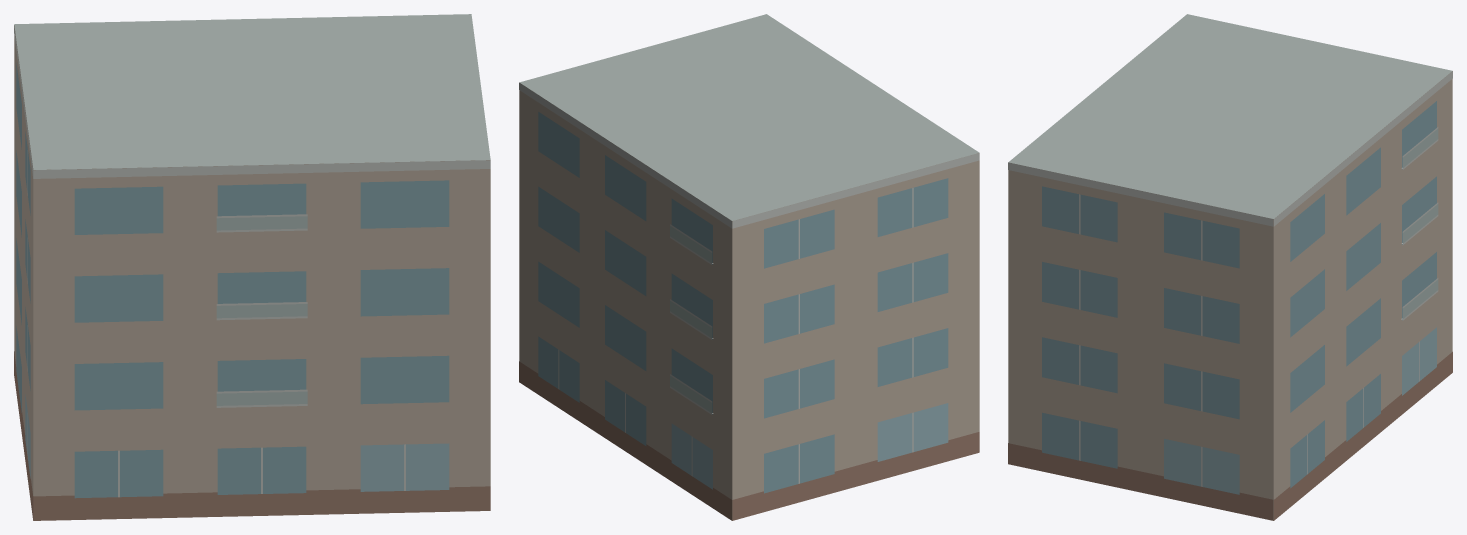
Rendered from survey-upis-32711796.glb.
3 views of the same model, side by side, from view 1: azimuth 30°, elevation 25°; view 2: azimuth 150°, elevation 25°; view 3: azimuth 270°, elevation 25° (orthographic). The views are drawn at different scales.
Visible parts, largest first — view 1: survey-upis-32711796.tmp; view 2: survey-upis-32711796.tmp; view 3: survey-upis-32711796.tmp.
Boxes of the visible parts, x1,y1,x2,y2 form: survey-upis-32711796.tmp: (14,14,490,520); survey-upis-32711796.tmp: (519,14,979,520); survey-upis-32711796.tmp: (1008,14,1452,520).
Size of the model in its own units: 14 by 9.6 by 12.83.
